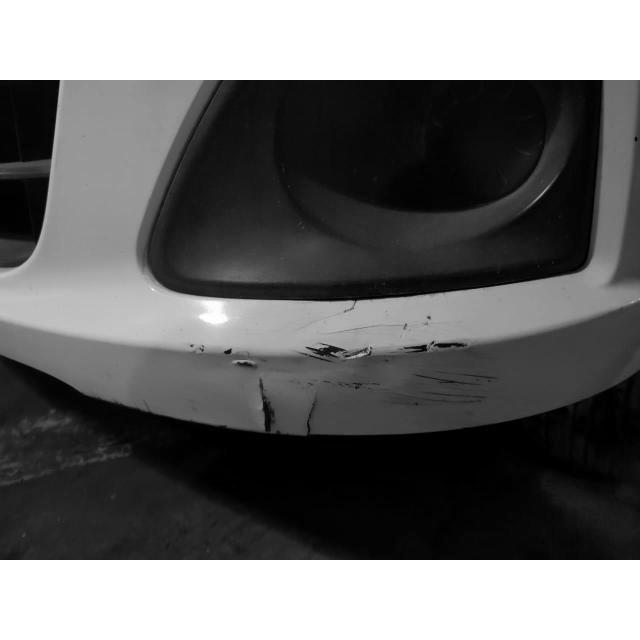front-bumper-dent: (117, 83, 618, 446)
